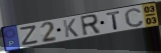2: (39, 21, 58, 44)
C: (123, 7, 145, 28)
K: (62, 18, 80, 39)
R: (79, 13, 103, 38)
T: (105, 10, 121, 31)
Z: (19, 24, 40, 47)
